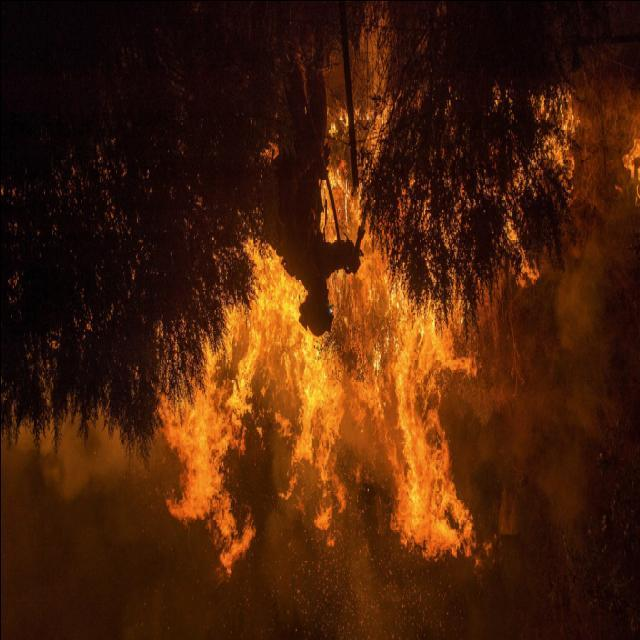Fire: (155, 105, 568, 578)
